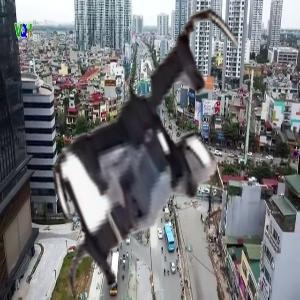drone: (17, 19, 284, 286)
